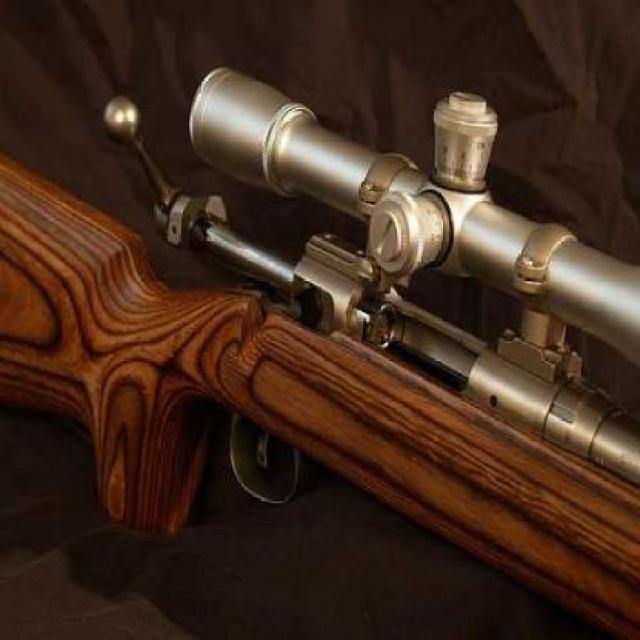weapon: (4, 59, 640, 640)
